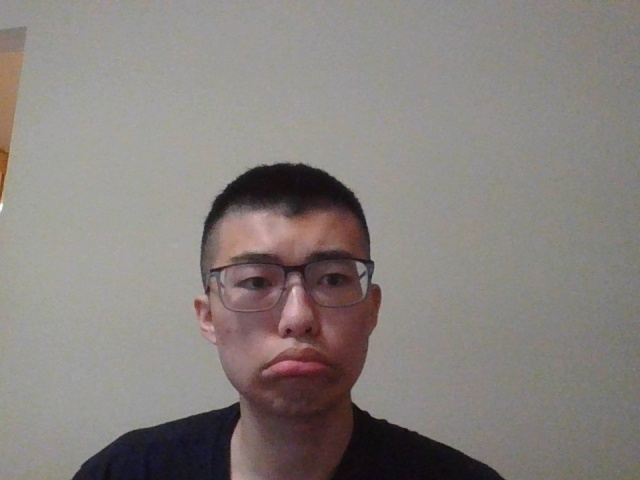sad: (187, 160, 386, 423)
